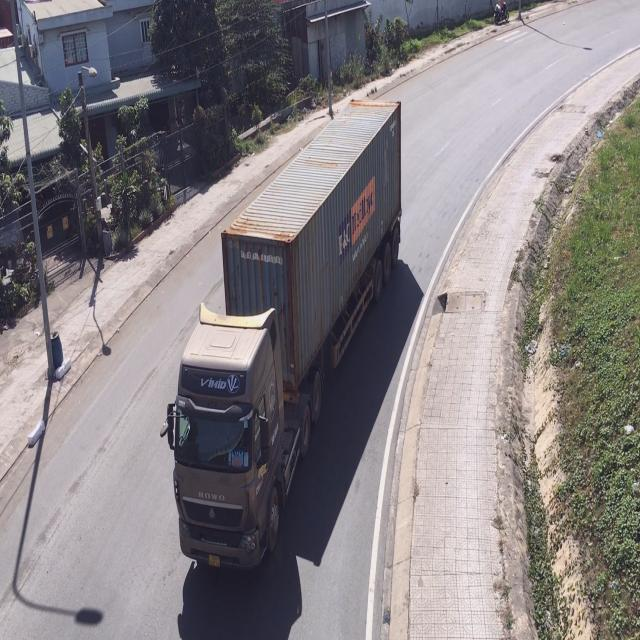truck: (165, 104, 402, 576)
